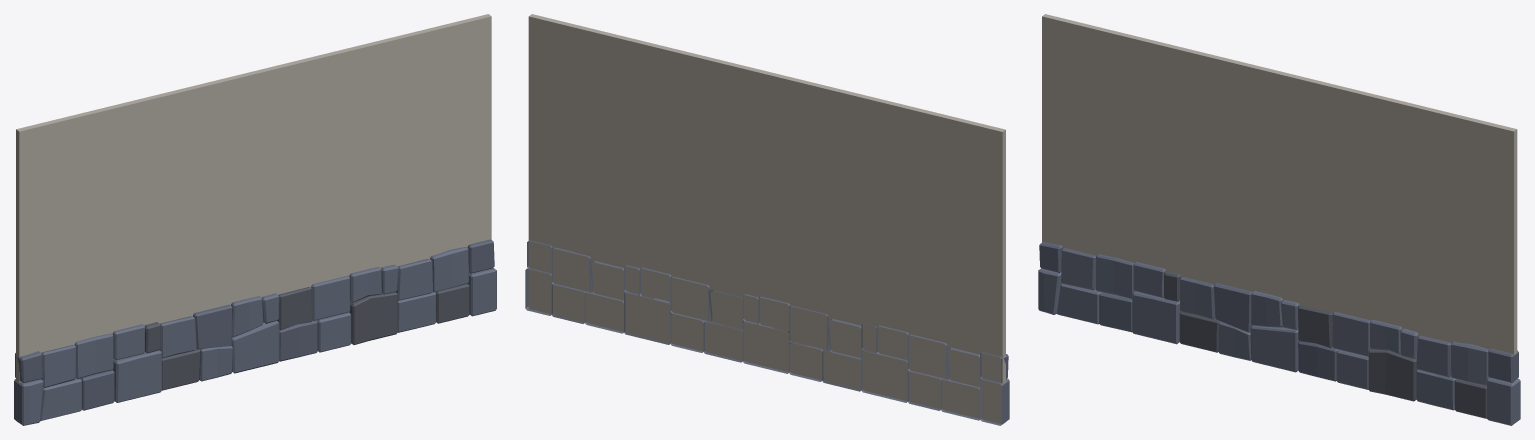
The model's file is Wall_10.fbx.
3 views of the same model, side by side, from view 1: azimuth 30°, elevation 25°; view 2: azimuth 150°, elevation 25°; view 3: azimuth 330°, elevation 25° (orthographic).
Visible parts, largest first — view 1: Wall_10; view 2: Wall_10; view 3: Wall_10.
Boxes of the visible parts, bbox=[...] form: Wall_10: bbox=[14, 14, 496, 425]; Wall_10: bbox=[525, 14, 1009, 425]; Wall_10: bbox=[1038, 14, 1520, 425].
Size of the model in its own units: 4.75 by 2.79 by 0.1594.
